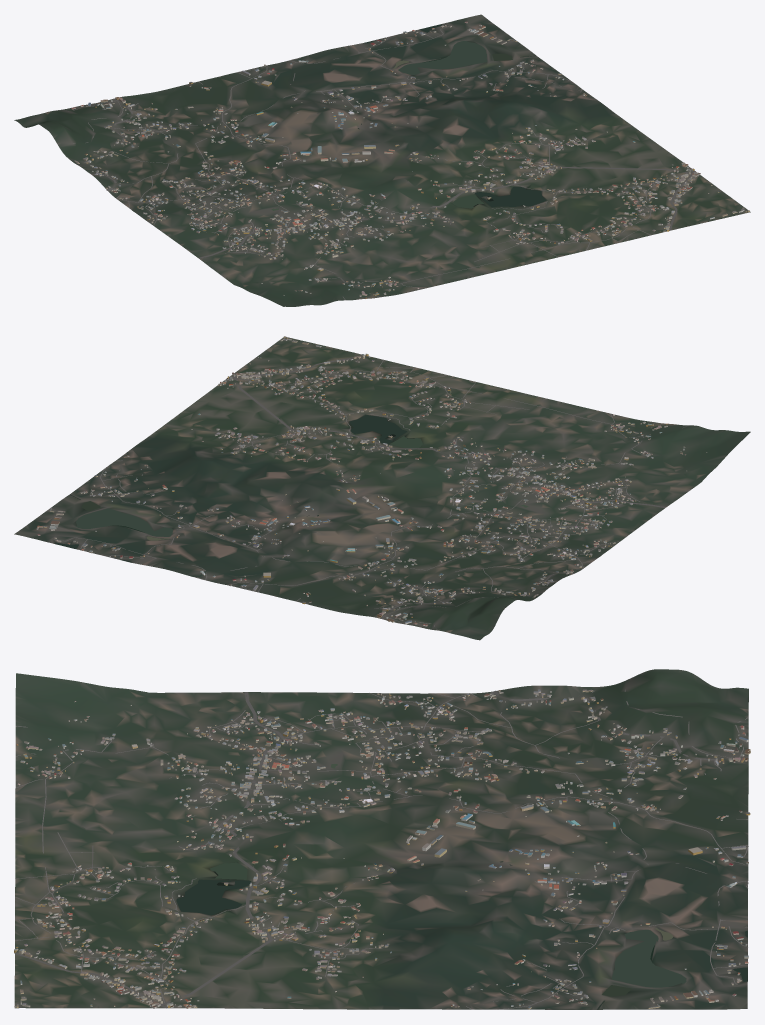
3 views of the same model, one above another, from view 1: azimuth 30°, elevation 25°; view 2: azimuth 150°, elevation 25°; view 3: azimuth 270°, elevation 25° (orthographic). The views are drawn at different scales.
Parts seen in each view (by area): view 1: ground, buildings, roads, water; view 2: ground, buildings, roads, water; view 3: ground, buildings, roads, water.
Part boxes in pixels (x1,y1,x2,y2): ground: (14,14,750,306); buildings: (71,21,749,298); roads: (56,25,695,300); water: (271,24,546,210); ground: (14,337,750,640); buildings: (36,336,706,626); roads: (54,355,688,630); water: (55,415,528,562); ground: (14,669,748,1009); buildings: (14,689,750,1009); roads: (14,678,748,1009); water: (176,764,747,1009).
Bounding box in the file's own units: 2807 × 140 × 2819.
